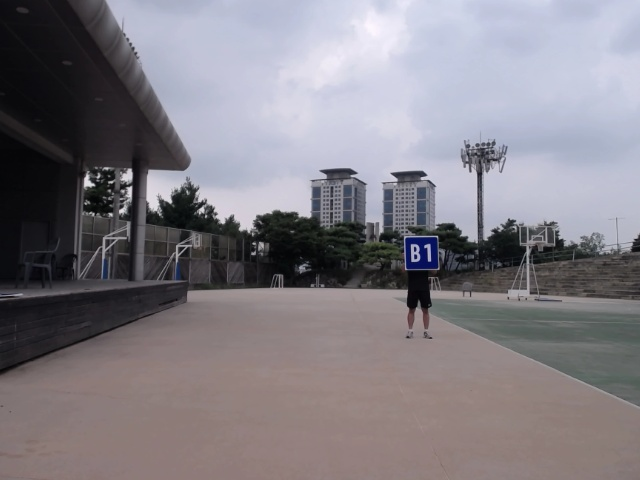delivery_b1: (404, 236, 440, 270)
